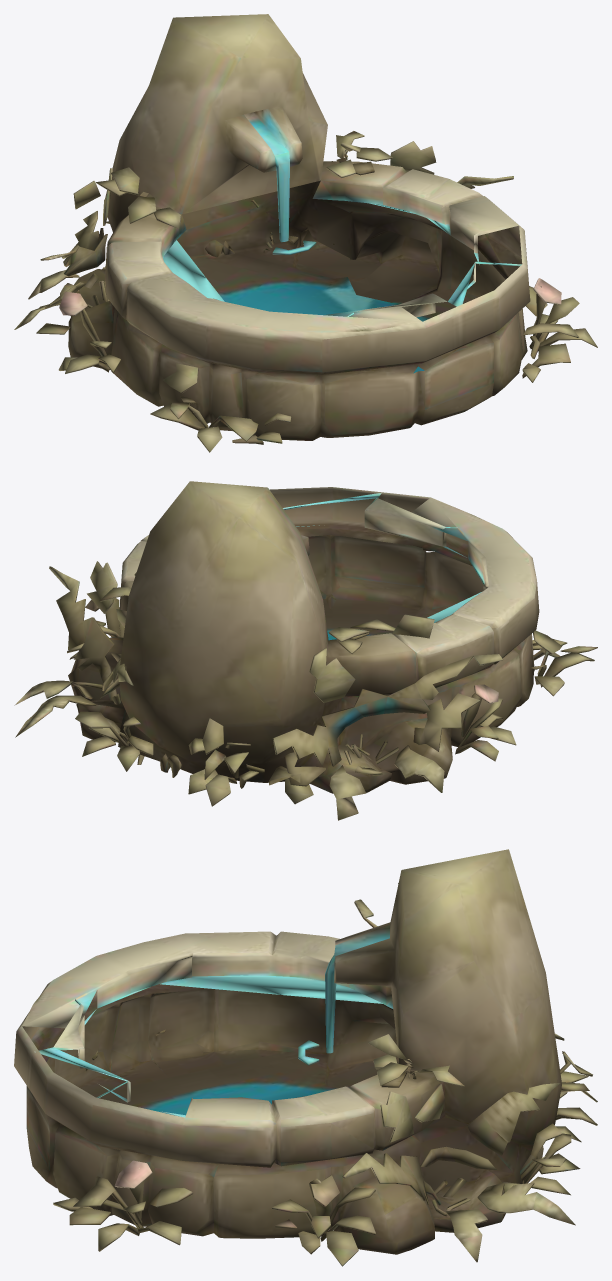
The model's file is spring-sand.glb.
The picture shows the model from 3 angles, top to bottom: view 1: azimuth 30°, elevation 25°; view 2: azimuth 150°, elevation 25°; view 3: azimuth 270°, elevation 25°; orthographic projection. The views are drawn at different scales.
Visible parts, largest first — view 1: spring-sand; view 2: spring-sand; view 3: spring-sand.
Part boxes in pixels (x1,y1,x2,y2): spring-sand: [14, 14, 597, 452]; spring-sand: [14, 481, 597, 820]; spring-sand: [14, 849, 597, 1266].
Size of the model in its own units: 0.998 by 0.5499 by 0.9883.
Materials: 1 (1 with a texture image).
